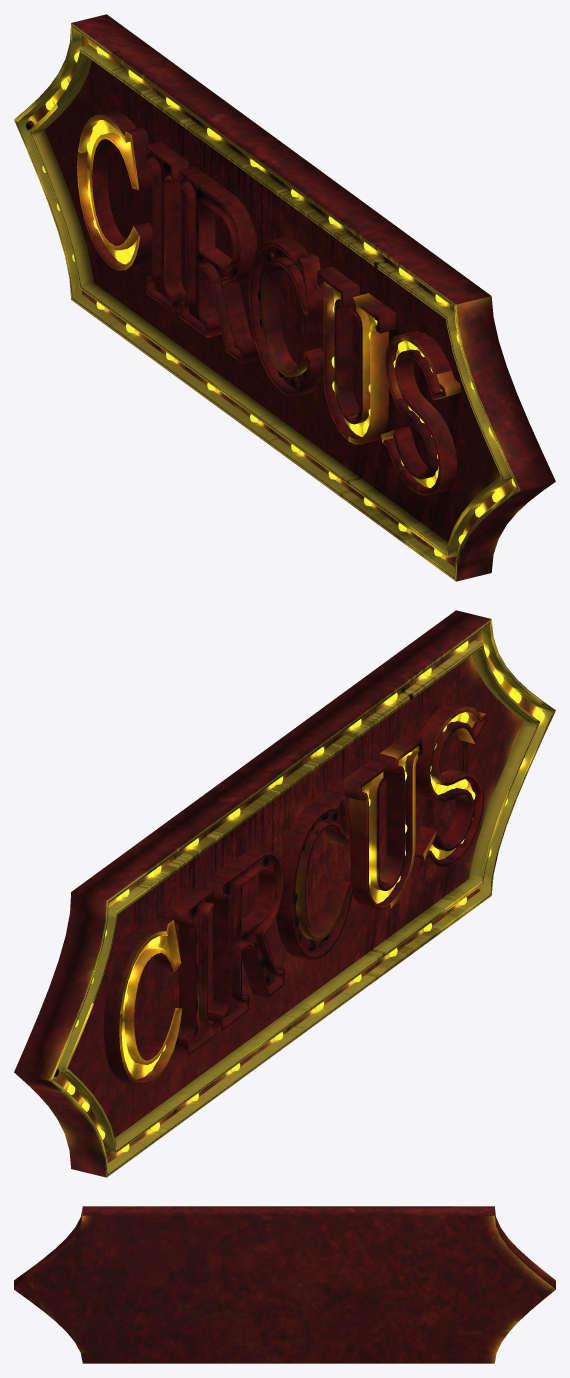
The model's file is Circus stuff sign 6.fbx.
3 renders of one model, top to bottom at view 1: azimuth 30°, elevation 25°; view 2: azimuth 150°, elevation 25°; view 3: azimuth 270°, elevation 25°, orthographic. The views are drawn at different scales.
Visible parts, largest first — view 1: polySurface55575; view 2: polySurface55575; view 3: polySurface55575.
Part boxes in pixels (box(x1,y1,x2,y2)): polySurface55575: box(14, 14, 555, 581); polySurface55575: box(14, 610, 555, 1177); polySurface55575: box(14, 1206, 555, 1363).
Bounding box in the file's own units: 17.65 × 120 × 398.
